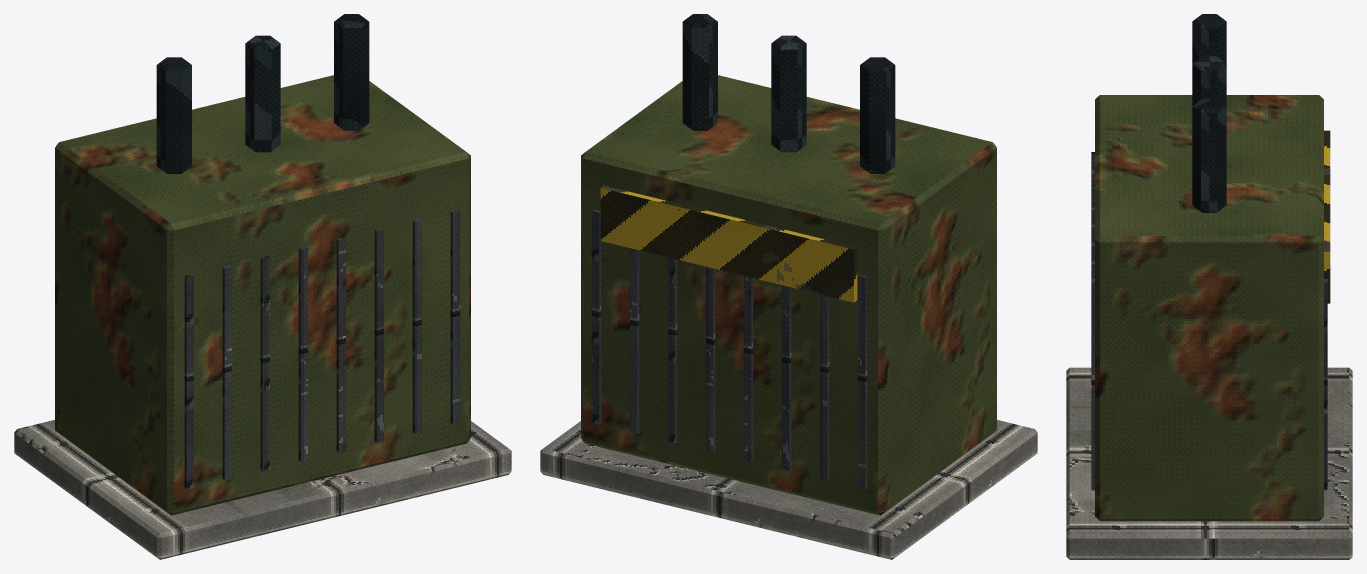
The model's file is prop_transformer.glb.
The picture shows the model from 3 angles, left to right: view 1: azimuth 30°, elevation 25°; view 2: azimuth 150°, elevation 25°; view 3: azimuth 270°, elevation 25°; orthographic projection. The views are drawn at different scales.
Visible parts, largest first — view 1: prop_transformer_mesh; view 2: prop_transformer_mesh; view 3: prop_transformer_mesh.
Boxes of the visible parts, box(x1,y1,x2,y2) form: prop_transformer_mesh: box(14, 14, 511, 559); prop_transformer_mesh: box(540, 14, 1037, 559); prop_transformer_mesh: box(1066, 14, 1352, 559).
Size of what is drawn, in the model's own units: 2.8 by 3.2 by 2.
Materials: 5 (5 with a texture image).
